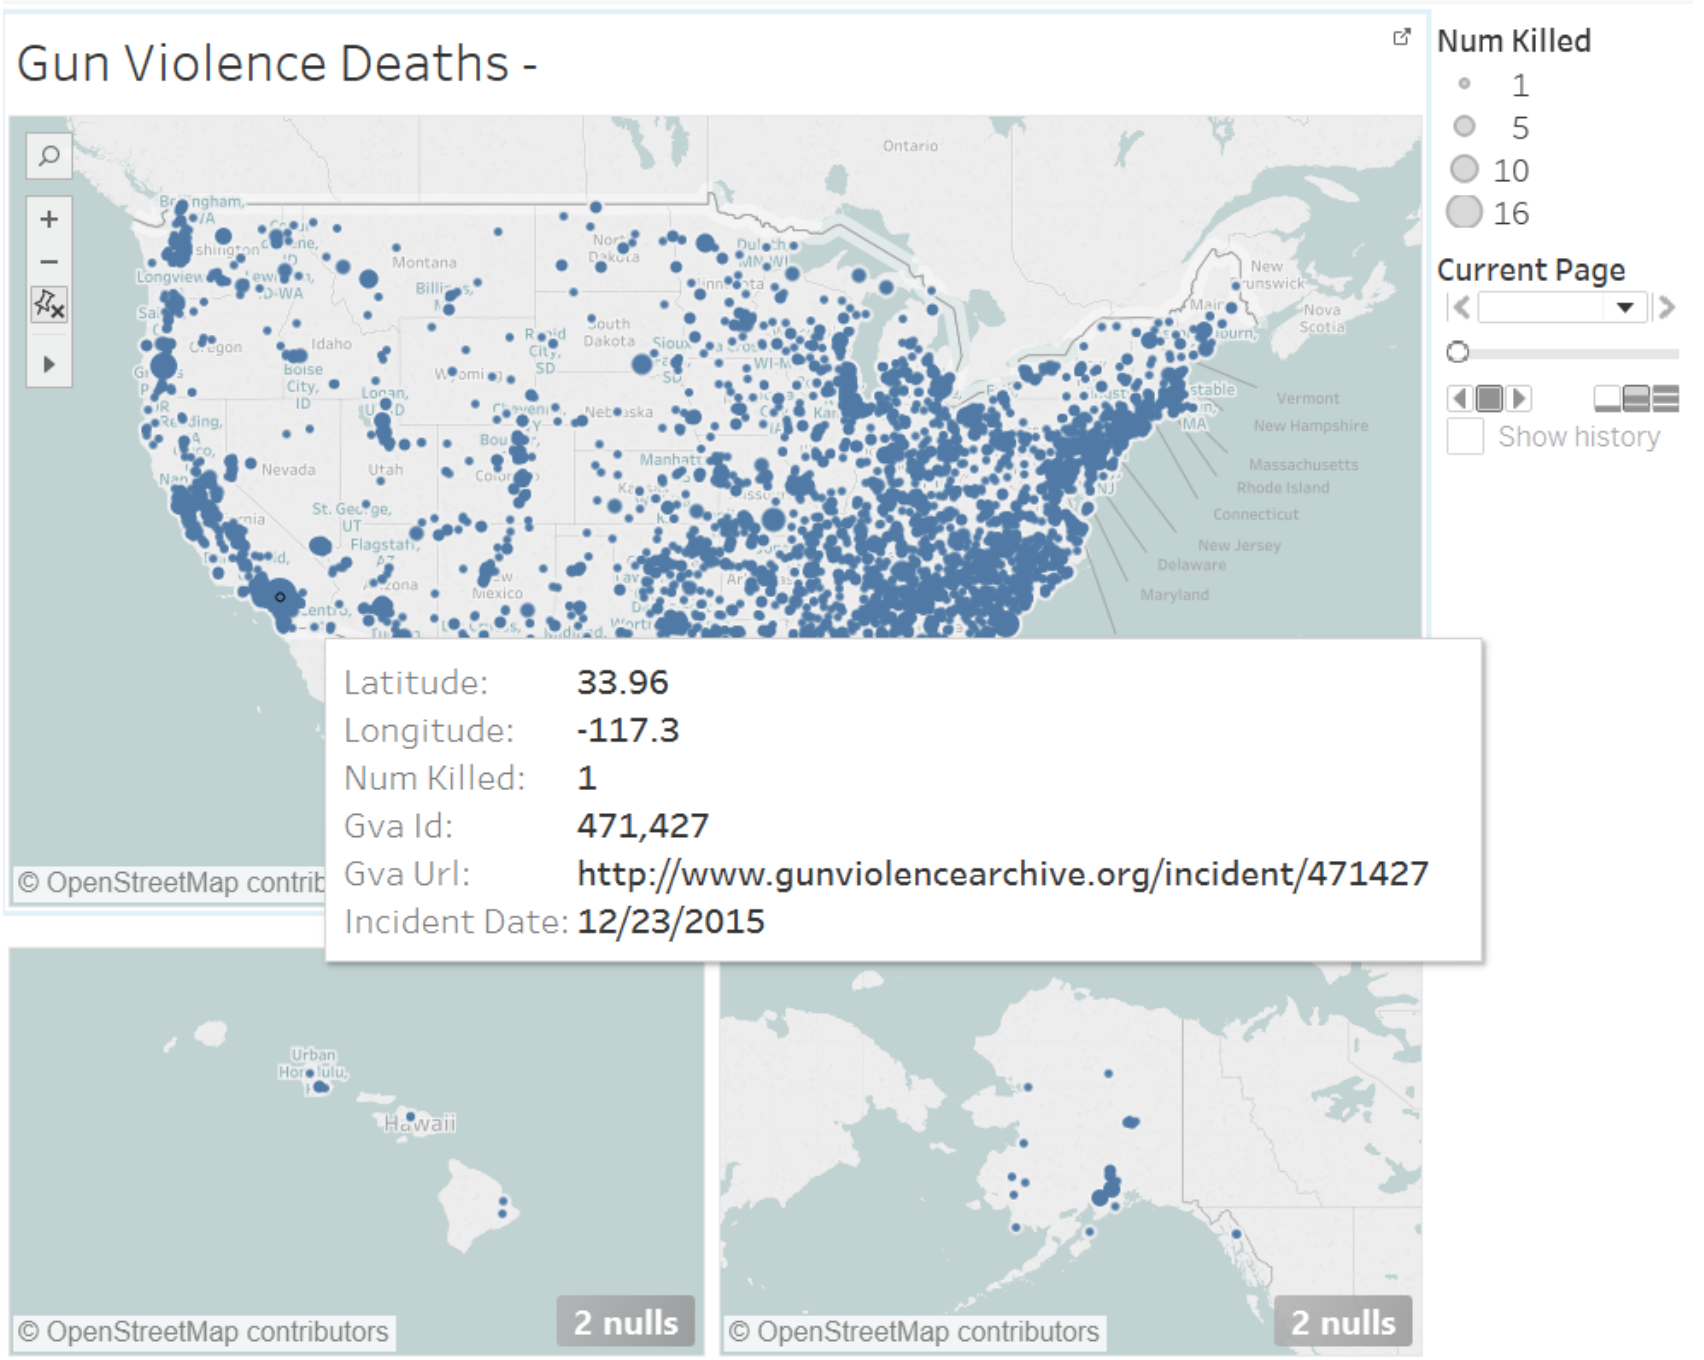

Layout of this report page (visuals, bound fields, positions):
{"tool":"tableau","page":{"name":"Gun Violence Visualized","canvas":[1000,800],"ordinal":1},"visuals":[{"type":"worksheet","title":"Gun Violence Incidents","mark":"Automatic","rows":["geolocation - Split 1","geolocation - Split 1"],"cols":["geolocation - Split 2"],"box":[8,8,789,392]},{"type":"legend","title":"Gun Violence Incidents","param":"[federated.0yy95q40d4pwj61eyinzd0ve08z3].[sum:Calculation_992762250856325128:qk]","box":[797,8,195,61]},{"type":"legend","title":"Gun Violence Incidents","param":"[federated.0rwiycf0op32c813xyf7a17e2gam].[sum:killed:qk]","box":[797,69,195,146]},{"type":"filter","title":"Gun Violence Incidents","param":"[federated.06s4erb0238kt810w1a8d0xdatq8].[none:incident_date:qk]","box":[797,215,195,69]},{"type":"filter","title":"Gun Violence Incidents","param":"[federated.0rwiycf0op32c813xyf7a17e2gam].[sum:killed:qk]","box":[797,284,195,69]},{"type":"worksheet","title":"Gun Violence Incidents (Hawaii)","mark":"Automatic","rows":["geolocation - Split 1","geolocation - Split 1"],"cols":["geolocation - Split 2"],"box":[8,400,394.5,392]},{"type":"worksheet","title":"Gun Violence Incidents (Alaska)","mark":"Automatic","rows":["geolocation - Split 1","geolocation - Split 1"],"cols":["geolocation - Split 2"],"box":[402.5,400,394.5,392]}]}

Visuals, with their boxes in screenshot pixels (x1, y1, x2, y2), scaled from the page's 1000x800 canvas onto the 1704x1360 screenshot:
"Gun Violence Incidents" worksheet: Rect(14, 14, 1358, 680)
"Gun Violence Incidents" legend: Rect(1358, 14, 1690, 117)
"Gun Violence Incidents" legend: Rect(1358, 117, 1690, 366)
"Gun Violence Incidents" filter: Rect(1358, 366, 1690, 483)
"Gun Violence Incidents" filter: Rect(1358, 483, 1690, 600)
"Gun Violence Incidents (Hawaii)" worksheet: Rect(14, 680, 686, 1346)
"Gun Violence Incidents (Alaska)" worksheet: Rect(686, 680, 1358, 1346)
